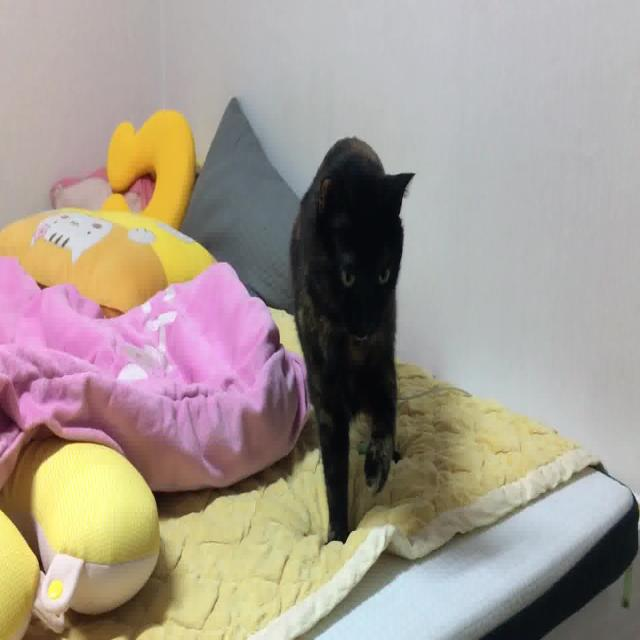cat: (286, 131, 418, 557)
